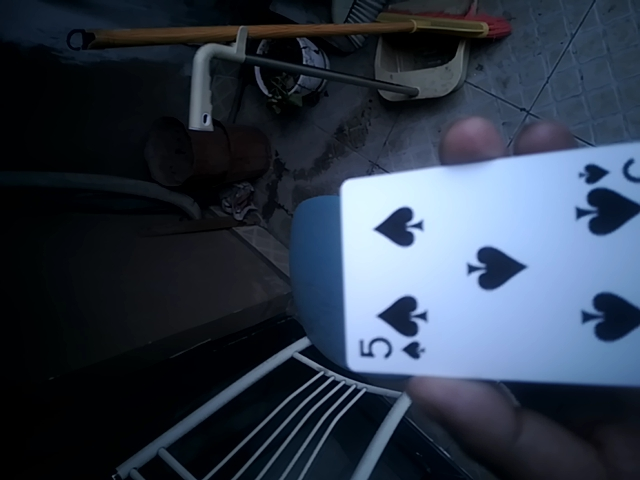ht 5: (329, 137, 639, 388)
